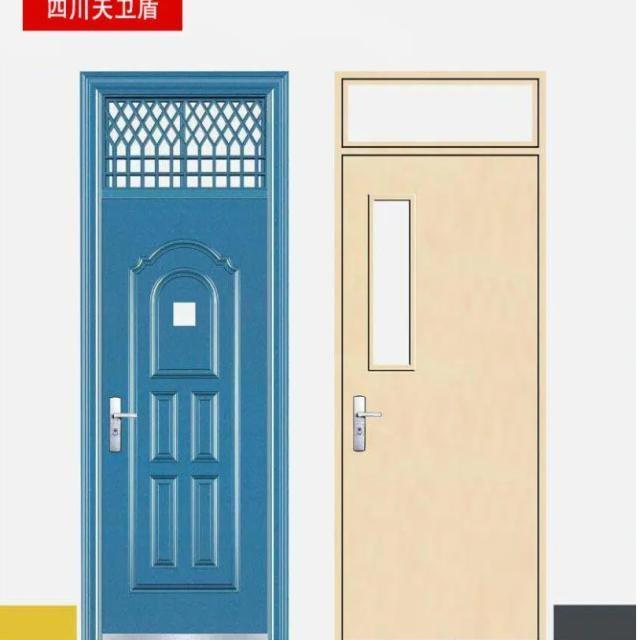door: (80, 67, 295, 640), (333, 71, 544, 640)
